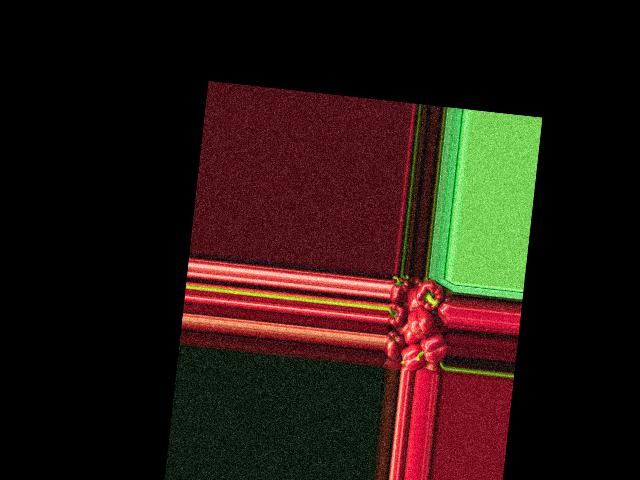bell_pepper: (389, 275, 410, 302)
